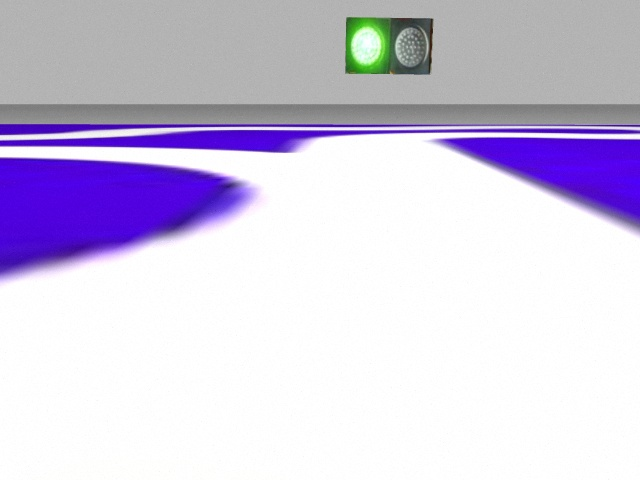green: (347, 14, 390, 74)
